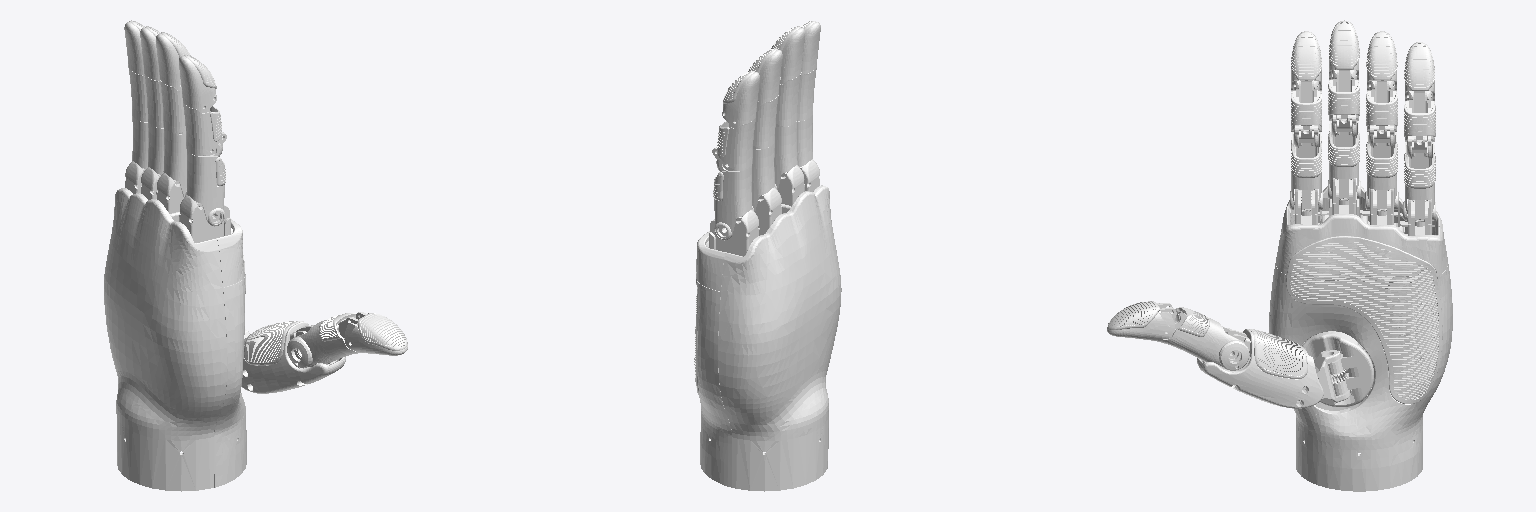
--- Facts derived from the render (not from the file) ---
The picture shows the robot from 3 angles, left to right: view 1: azimuth 30°, elevation 25°; view 2: azimuth 150°, elevation 25°; view 3: azimuth 270°, elevation 25°; orthographic projection.
Model linkerhand_l10_7_left.urdf with 21 links and 20 joints (20 revolute), rooted at hand_base_link, posed every joint at zero.
Visible links, largest first — view 1: hand_base_link, thumb_metacarpals, thumb_proximal, thumb_distal, index_proximal, index_middle, index_distal, index_metacarpals, middle_distal, middle_proximal, middle_middle, pinky_distal (+5 smaller); view 2: hand_base_link, pinky_proximal, pinky_middle, pinky_distal, pinky_metacarpals, ring_distal, middle_distal, ring_proximal, middle_proximal, middle_middle, ring_middle, ring_metacarpals (+3 smaller); view 3: hand_base_link, thumb_metacarpals, thumb_proximal, thumb_metacarpals_base1, thumb_distal, ring_proximal, pinky_proximal, middle_proximal, index_proximal, pinky_middle, middle_middle, index_middle (+9 smaller).
Link boxes in pixels (x1,y1,x2,y2): hand_base_link: [104, 173, 246, 491]; thumb_metacarpals: [242, 321, 345, 393]; thumb_proximal: [287, 313, 357, 368]; thumb_distal: [345, 312, 407, 355]; index_proximal: [186, 150, 225, 226]; index_middle: [183, 103, 226, 156]; index_distal: [179, 55, 216, 112]; index_metacarpals: [179, 195, 230, 242]; middle_distal: [156, 32, 190, 90]; middle_proximal: [163, 128, 186, 197]; middle_middle: [160, 80, 185, 133]; pinky_distal: [124, 20, 144, 76]; hand_base_link: [694, 165, 841, 491]; pinky_proximal: [713, 164, 752, 240]; pinky_middle: [712, 118, 755, 171]; pinky_distal: [722, 71, 759, 128]; pinky_metacarpals: [709, 210, 759, 256]; ring_distal: [748, 48, 782, 106]; middle_distal: [771, 26, 804, 84]; ring_proximal: [752, 143, 774, 211]; middle_proximal: [774, 120, 797, 189]; middle_middle: [776, 72, 801, 126]; ring_middle: [753, 95, 778, 148]; ring_metacarpals: [755, 187, 781, 235]; hand_base_link: [1269, 178, 1452, 491]; thumb_metacarpals: [1197, 329, 1323, 408]; thumb_proximal: [1161, 307, 1249, 370]; thumb_metacarpals_base1: [1302, 331, 1373, 406]; thumb_distal: [1107, 301, 1176, 341]; ring_proximal: [1365, 125, 1398, 211]; pinky_proximal: [1403, 136, 1435, 221]; middle_proximal: [1328, 115, 1360, 200]; index_proximal: [1290, 125, 1322, 211]; pinky_middle: [1404, 91, 1435, 158]; middle_middle: [1328, 70, 1359, 137]; index_middle: [1291, 80, 1321, 147].
Size in the robot's own frame: 0.0906 by 0.1742 by 0.2403 metres.
Meshes: 21 distinct files referenced, 21 mesh visuals loaded (21 binary STL).

URDF robot description (linkerhand_l10_7_left.urdf):
<?xml version="1.0" encoding="utf-8"?>
<!-- This URDF was automatically created by SolidWorks to URDF Exporter! Originally created by Stephen Brawner ([email redacted]) 
     Commit Version: 1.6.0-4-g7f85cfe  Build Version: 1.6.7995.38578
     For more information, please see http://wiki.ros.org/sw_urdf_exporter -->
<robot
  name="linkerhand_l10_7_left.urdf">
  <link
    name="hand_base_link">
    <inertial>
      <origin
        xyz="-0.00378861347427444 0.000820204450212636 0.0805686615687793"
        rpy="0 0 0" />
      <mass
        value="0.103652479414282" />
      <inertia
        ixx="0.000193076183439416"
        ixy="-1.28622350247984E-06"
        ixz="2.06064564158949E-07"
        iyy="0.00012926288517179"
        iyz="2.33887125852557E-06"
        izz="7.7154522927083E-05" />
    </inertial>
    <visual>
      <origin
        xyz="0 0 0"
        rpy="0 0 0" />
      <geometry>
        <mesh
          filename="meshes/hand_base_link.STL" />
      </geometry>
      <material
        name="">
        <color
          rgba="1 1 1 1" />
      </material>
    </visual>
    <collision>
      <origin
        xyz="0 0 0"
        rpy="0 0 0" />
      <geometry>
        <mesh
          filename="meshes/hand_base_link.STL" />
      </geometry>
    </collision>
  </link>
  <link
    name="thumb_metacarpals_base1">
    <inertial>
      <origin
        xyz="0.0284774512174003 0.00319294525979458 0.000288805100279406"
        rpy="0 0 0" />
      <mass
        value="0.00845816139945221" />
      <inertia
        ixx="1.40261486759336E-06"
        ixy="-1.18203915023492E-07"
        ixz="-1.77734618116876E-08"
        iyy="9.82563502315962E-07"
        iyz="6.88489366314261E-08"
        izz="7.36187487063603E-07" />
    </inertial>
    <visual>
      <origin
        xyz="0 0 0"
        rpy="0 0 0" />
      <geometry>
        <mesh
          filename="meshes/thumb_metacarpals_base1.STL" />
      </geometry>
      <material
        name="">
        <color
          rgba="1 1 1 1" />
      </material>
    </visual>
    <collision>
      <origin
        xyz="0 0 0"
        rpy="0 0 0" />
      <geometry>
        <mesh
          filename="meshes/thumb_metacarpals_base1.STL" />
      </geometry>
    </collision>
  </link>
  <joint
    name="thumb_cmc_roll"
    type="revolute">
    <origin
      xyz="-0.013419 -0.012551 0.060602"
      rpy="0 0 0" />
    <parent
      link="hand_base_link" />
    <child
      link="thumb_metacarpals_base1" />
    <axis
      xyz="-0.99996 0 -0.0087265" />
    <limit
      lower="0"
      upper="1.1339"
      effort="100"
      velocity="1" />
  </joint>
  <link
    name="thumb_metacarpals_base2">
    <inertial>
      <origin
        xyz="0.00183846579918134 -0.00587846426611621 -0.0015162158210808"
        rpy="0 0 0" />
      <mass
        value="0.00244725578113259" />
      <inertia
        ixx="1.15251315698557E-07"
        ixy="4.89370850547165E-09"
        ixz="2.66612542059565E-09"
        iyy="9.94309628765418E-08"
        iyz="3.10591576019106E-09"
        izz="6.87375869983625E-08" />
    </inertial>
    <visual>
      <origin
        xyz="0 0 0"
        rpy="0 0 0" />
      <geometry>
        <mesh
          filename="meshes/thumb_metacarpals_base2.STL" />
      </geometry>
      <material
        name="">
        <color
          rgba="1 1 1 1" />
      </material>
    </visual>
    <collision>
      <origin
        xyz="0 0 0"
        rpy="0 0 0" />
      <geometry>
        <mesh
          filename="meshes/thumb_metacarpals_base2.STL" />
      </geometry>
    </collision>
  </link>
  <joint
    name="thumb_cmc_yaw"
    type="revolute">
    <origin
      xyz="0.035797 0.00065879 0.00045944"
      rpy="0 0 0" />
    <parent
      link="thumb_metacarpals_base1" />
    <child
      link="thumb_metacarpals_base2" />
    <axis
      xyz="-0.008517 -0.21782 0.97595" />
    <limit
      lower="0"
      upper="1.9189"
      effort="100"
      velocity="1" />
  </joint>
  <link
    name="thumb_metacarpals">
    <inertial>
      <origin
        xyz="0.00183662026125164 3.48962479811143E-06 0.0269904486748884"
        rpy="0 0 0" />
      <mass
        value="0.01520120856034" />
      <inertia
        ixx="2.9536990439562E-06"
        ixy="-4.54477085913726E-11"
        ixz="1.58082889158651E-07"
        iyy="3.8477051320862E-06"
        iyz="-4.17561402252793E-10"
        izz="1.32008356198982E-06" />
    </inertial>
    <visual>
      <origin
        xyz="0 0 0"
        rpy="0 0 0" />
      <geometry>
        <mesh
          filename="meshes/thumb_metacarpals.STL" />
      </geometry>
      <material
        name="">
        <color
          rgba="1 1 1 1" />
      </material>
    </visual>
    <collision>
      <origin
        xyz="0 0 0"
        rpy="0 0 0" />
      <geometry>
        <mesh
          filename="meshes/thumb_metacarpals.STL" />
      </geometry>
    </collision>
  </link>
  <joint
    name="thumb_cmc_pitch"
    type="revolute">
    <origin
      xyz="0.0046051 -0.014383 -0.0051478"
      rpy="-0.16356 -1.1191 2.0038" />
    <parent
      link="thumb_metacarpals_base2" />
    <child
      link="thumb_metacarpals" />
    <axis
      xyz="0 1 0" />
    <limit
      lower="0"
      upper="0.5149"
      effort="0"
      velocity="0" />
  </joint>
  <link
    name="thumb_proximal">
    <inertial>
      <origin
        xyz="0.0015926125860982 4.26589066317498E-06 0.0151572207811941"
        rpy="0 0 0" />
      <mass
        value="0.00662223966318386" />
      <inertia
        ixx="1.0152616293145E-06"
        ixy="6.75215818960843E-12"
        ixz="4.42240858300533E-08"
        iyy="9.10425093388008E-07"
        iyz="-2.56550662127861E-11"
        izz="4.47461802494835E-07" />
    </inertial>
    <visual>
      <origin
        xyz="0 0 0"
        rpy="0 0 0" />
      <geometry>
        <mesh
          filename="meshes/thumb_proximal.STL" />
      </geometry>
      <material
        name="">
        <color
          rgba="1 1 1 1" />
      </material>
    </visual>
    <collision>
      <origin
        xyz="0 0 0"
        rpy="0 0 0" />
      <geometry>
        <mesh
          filename="meshes/thumb_proximal.STL" />
      </geometry>
    </collision>
  </link>
  <joint
    name="thumb_mcp"
    type="revolute">
    <origin
      xyz="0.0061722 0 0.047968"
      rpy="0 0 0" />
    <parent
      link="thumb_metacarpals" />
    <child
      link="thumb_proximal" />
    <axis
      xyz="0 1 0" />
    <limit
      lower="0"
      upper="0.7152"
      effort="100"
      velocity="1" />
    <mimic
      joint="thumb_cmc_pitch"
      multiplier="1.3898"
      offset="0" />
  </joint>
  <link
    name="thumb_distal">
    <inertial>
      <origin
        xyz="-0.00138804783940386 -1.95109829512208E-06 0.0115761271998154"
        rpy="0 0 0" />
      <mass
        value="0.00512789958515099" />
      <inertia
        ixx="3.30786354228455E-07"
        ixy="3.37981828718406E-10"
        ixz="1.04683577058069E-07"
        iyy="3.23607405408934E-07"
        iyz="1.24601619348998E-10"
        izz="2.48874162996129E-07" />
    </inertial>
    <visual>
      <origin
        xyz="0 0 0"
        rpy="0 0 0" />
      <geometry>
        <mesh
          filename="meshes/thumb_distal.STL" />
      </geometry>
      <material
        name="">
        <color
          rgba="1 1 1 1" />
      </material>
    </visual>
    <collision>
      <origin
        xyz="0 0 0"
        rpy="0 0 0" />
      <geometry>
        <mesh
          filename="meshes/thumb_distal.STL" />
      </geometry>
    </collision>
  </link>
  <joint
    name="thumb_ip"
    type="revolute">
    <origin
      xyz="-0.00017064 0 0.038665"
      rpy="0 0 0" />
    <parent
      link="thumb_proximal" />
    <child
      link="thumb_distal" />
    <axis
      xyz="0 1 0" />
    <limit
      lower="0"
      upper="0.7763"
      effort="100"
      velocity="1" />
    <mimic
      joint="thumb_cmc_pitch"
      multiplier="1.508"
      offset="0" />
  </joint>
  <link
    name="index_metacarpals">
    <inertial>
      <origin
        xyz="-0.00152426817464821 6.05770268113925E-07 0.0106911596123391"
        rpy="0 0 0" />
      <mass
        value="0.00388771277323252" />
      <inertia
        ixx="1.87385239390143E-07"
        ixy="-1.50747799029618E-11"
        ixz="-1.3585152124314E-08"
        iyy="2.75278189614443E-07"
        iyz="-2.13460044424543E-11"
        izz="2.06630683818818E-07" />
    </inertial>
    <visual>
      <origin
        xyz="0 0 0"
        rpy="0 0 0" />
      <geometry>
        <mesh
          filename="meshes/index_metacarpals.STL" />
      </geometry>
      <material
        name="">
        <color
          rgba="1 1 1 1" />
      </material>
    </visual>
    <collision>
      <origin
        xyz="0 0 0"
        rpy="0 0 0" />
      <geometry>
        <mesh
          filename="meshes/index_metacarpals.STL" />
      </geometry>
    </collision>
  </link>
  <joint
    name="index_mcp_roll"
    type="revolute">
    <origin
      xyz="-0.0021643 -0.026654 0.13253"
      rpy="0 0 0" />
    <parent
      link="hand_base_link" />
    <child
      link="index_metacarpals" />
    <axis
      xyz="0.99996 0 0.0087265" />
    <limit
      lower="0"
      upper="0.2181"
      effort="100"
      velocity="1" />
  </joint>
  <link
    name="index_proximal">
    <inertial>
      <origin
        xyz="-0.00138261335013087 -2.0448073701218E-06 0.0182296115874793"
        rpy="0 0 0" />
      <mass
        value="0.00316246721925245" />
      <inertia
        ixx="3.56395782183238E-07"
        ixy="-1.519753847635E-11"
        ixz="4.33017644796655E-08"
        iyy="3.51905921291625E-07"
        iyz="1.08366129189436E-10"
        izz="1.41611972744247E-07" />
    </inertial>
    <visual>
      <origin
        xyz="0 0 0"
        rpy="0 0 0" />
      <geometry>
        <mesh
          filename="meshes/index_proximal.STL" />
      </geometry>
      <material
        name="">
        <color
          rgba="1 1 1 1" />
      </material>
    </visual>
    <collision>
      <origin
        xyz="0 0 0"
        rpy="0 0 0" />
      <geometry>
        <mesh
          filename="meshes/index_proximal.STL" />
      </geometry>
    </collision>
  </link>
  <joint
    name="index_mcp_pitch"
    type="revolute">
    <origin
      xyz="0.0020763 0 0.015294"
      rpy="0 0 0" />
    <parent
      link="index_metacarpals" />
    <child
      link="index_proximal" />
    <axis
      xyz="0 1 0" />
    <limit
      lower="0"
      upper="1.3607"
      effort="100"
      velocity="1" />
  </joint>
  <link
    name="index_middle">
    <inertial>
      <origin
        xyz="-0.00259933527445673 2.18965318593556E-06 0.0110174750966451"
        rpy="0 0 0" />
      <mass
        value="0.00283043922879456" />
      <inertia
        ixx="2.60328600820399E-07"
        ixy="-5.78747075104944E-11"
        ixz="4.11785819343582E-08"
        iyy="2.3307752147835E-07"
        iyz="2.81942890795077E-11"
        izz="1.27252338208461E-07" />
    </inertial>
    <visual>
      <origin
        xyz="0 0 0"
        rpy="0 0 0" />
      <geometry>
        <mesh
          filename="meshes/index_middle.STL" />
      </geometry>
      <material
        name="">
        <color
          rgba="1 1 1 1" />
      </material>
    </visual>
    <collision>
      <origin
        xyz="0 0 0"
        rpy="0 0 0" />
      <geometry>
        <mesh
          filename="meshes/index_middle.STL" />
      </geometry>
    </collision>
  </link>
  <joint
    name="index_pip"
    type="revolute">
    <origin
      xyz="-0.0013807 0 0.035624"
      rpy="0 0 0" />
    <parent
      link="index_proximal" />
    <child
      link="index_middle" />
    <axis
      xyz="0 1 0" />
    <limit
      lower="0"
      upper="1.8317"
      effort="100"
      velocity="1" />
    <mimic
      joint="index_mcp_pitch"
      multiplier="1.3462"
      offset="0" />
  </joint>
  <link
    name="index_distal">
    <inertial>
      <origin
        xyz="-0.000710517111010627 -4.75726794854636E-06 0.012145336450558"
        rpy="0 0 0" />
      <mass
        value="0.00314452064297397" />
      <inertia
        ixx="1.63317340328391E-07"
        ixy="-2.09419656935959E-11"
        ixz="4.33496816458187E-08"
        iyy="1.48361285562251E-07"
        iyz="1.96803996917722E-10"
        izz="9.85553531650042E-08" />
    </inertial>
    <visual>
      <origin
        xyz="0 0 0"
        rpy="0 0 0" />
      <geometry>
        <mesh
          filename="meshes/index_distal.STL" />
      </geometry>
      <material
        name="">
        <color
          rgba="1 1 1 1" />
      </material>
    </visual>
    <collision>
      <origin
        xyz="0 0 0"
        rpy="0 0 0" />
      <geometry>
        <mesh
          filename="meshes/index_distal.STL" />
      </geometry>
    </collision>
  </link>
  <joint
    name="index_dip"
    type="revolute">
    <origin
      xyz="-0.0054686 0 0.025665"
      rpy="0 0 0" />
    <parent
      link="index_middle" />
    <child
      link="index_distal" />
    <axis
      xyz="0 1 0" />
    <limit
      lower="0"
      upper="0.628"
      effort="100"
      velocity="1" />
    <mimic
      joint="index_mcp_pitch"
      multiplier="0.4616"
      offset="0" />
  </joint>
  <link
    name="middle_proximal">
    <inertial>
      <origin
        xyz="-0.00139098027014184 -2.04476498844031E-06 0.0182289750275599"
        rpy="0 0 0" />
      <mass
        value="0.00316246719662224" />
      <inertia
        ixx="3.56355985740973E-07"
        ixy="-1.52464655137029E-11"
        ixz="4.34003274159042E-08"
        iyy="3.51905920397221E-07"
        iyz="1.08359634878477E-10"
        izz="1.41651767407151E-07" />
    </inertial>
    <visual>
      <origin
        xyz="0 0 0"
        rpy="0 0 0" />
      <geometry>
        <mesh
          filename="meshes/middle_proximal.STL" />
      </geometry>
      <material
        name="">
        <color
          rgba="1 1 1 1" />
      </material>
    </visual>
    <collision>
      <origin
        xyz="0 0 0"
        rpy="0 0 0" />
      <geometry>
        <mesh
          filename="meshes/middle_proximal.STL" />
      </geometry>
    </collision>
  </link>
  <joint
    name="middle_mcp_pitch"
    type="revolute">
    <origin
      xyz="-0.0021316 -0.0076542 0.15281"
      rpy="0 0 0" />
    <parent
      link="hand_base_link" />
    <child
      link="middle_proximal" />
    <axis
      xyz="0 1 0" />
    <limit
      lower="0"
      upper="1.3607"
      effort="100"
      velocity="1" />
  </joint>
  <link
    name="middle_middle">
    <inertial>
      <origin
        xyz="-0.0026170048250792 2.18964489276385E-06 0.0110132913946175"
        rpy="0 0 0" />
      <mass
        value="0.00283043921858529" />
      <inertia
        ixx="2.6019615015243E-07"
        ixy="-5.79194626881696E-11"
        ixz="4.13918339836743E-08"
        iyy="2.33077520740401E-07"
        iyz="2.81014096462077E-11"
        izz="1.27384787247362E-07" />
    </inertial>
    <visual>
      <origin
        xyz="0 0 0"
        rpy="0 0 0" />
      <geometry>
        <mesh
          filename="meshes/middle_middle.STL" />
      </geometry>
      <material
        name="">
        <color
          rgba="1 1 1 1" />
      </material>
    </visual>
    <collision>
      <origin
        xyz="0 0 0"
        rpy="0 0 0" />
      <geometry>
        <mesh
          filename="meshes/middle_middle.STL" />
      </geometry>
    </collision>
  </link>
  <joint
    name="middle_pip"
    type="revolute">
    <origin
      xyz="-0.001397 0 0.035623"
      rpy="0 0 0" />
    <parent
      link="middle_proximal" />
    <child
      link="middle_middle" />
    <axis
      xyz="0 1 0" />
    <limit
      lower="0"
      upper="1.8317"
      effort="100"
      velocity="1" />
    <mimic
      joint="middle_mcp_pitch"
      multiplier="1.3462"
      offset="0" />
  </joint>
  <link
    name="middle_distal">
    <inertial>
      <origin
        xyz="-0.000728403029144615 -4.7556974856755E-06 0.0121442774004862"
        rpy="0 0 0" />
      <mass
        value="0.00314452092965163" />
      <inertia
        ixx="1.63189533228873E-07"
        ixy="-2.12447856725291E-11"
        ixz="4.34448768867267E-08"
        iyy="1.48361296215225E-07"
        iyz="1.96771697224987E-10"
        izz="9.86831899309453E-08" />
    </inertial>
    <visual>
      <origin
        xyz="0 0 0"
        rpy="0 0 0" />
      <geometry>
        <mesh
          filename="meshes/middle_distal.STL" />
      </geometry>
      <material
        name="">
        <color
          rgba="1 1 1 1" />
      </material>
    </visual>
    <collision>
      <origin
        xyz="0 0 0"
        rpy="0 0 0" />
      <geometry>
        <mesh
          filename="meshes/middle_distal.STL" />
      </geometry>
    </collision>
  </link>
  <joint
    name="middle_dip"
    type="revolute">
    <origin
      xyz="-0.0055098 0 0.025656"
      rpy="0 0 0" />
    <parent
      link="middle_middle" />
    <child
      link="middle_distal" />
    <axis
      xyz="0 1 0" />
    <limit
      lower="0"
      upper="1.628"
      effort="100"
      velocity="1" />
    <mimic
      joint="middle_mcp_pitch"
      multiplier="0.4616"
      offset="0" />
  </joint>
  <link
    name="ring_metacarpals">
    <inertial>
      <origin
        xyz="-0.00152426817464828 6.05770268197192E-07 0.010691159612339"
        rpy="0 0 0" />
      <mass
        value="0.00388771277323251" />
      <inertia
        ixx="1.87385239390142E-07"
        ixy="-1.50747799012373E-11"
        ixz="-1.35851521243144E-08"
        iyy="2.75278189614442E-07"
        iyz="-2.13460044414369E-11"
        izz="2.06630683818817E-07" />
    </inertial>
    <visual>
      <origin
        xyz="0 0 0"
        rpy="0 0 0" />
      <geometry>
        <mesh
          filename="meshes/ring_metacarpals.STL" />
      </geometry>
      <material
        name="">
        <color
          rgba="1 1 1 1" />
      </material>
    </visual>
    <collision>
      <origin
        xyz="0 0 0"
        rpy="0 0 0" />
      <geometry>
        <mesh
          filename="meshes/ring_metacarpals.STL" />
      </geometry>
    </collision>
  </link>
  <joint
    name="ring_mcp_roll"
    type="revolute">
    <origin
      xyz="-0.0021643 0.011346 0.13253"
      rpy="0 0 0" />
    <parent
      link="hand_base_link" />
    <child
      link="ring_metacarpals" />
    <axis
      xyz="-0.99996 0 0.0087265" />
    <limit
      lower="0"
      upper="0.2181"
      effort="100"
      velocity="1" />
  </joint>
  <link
    name="ring_proximal">
    <inertial>
      <origin
        xyz="-0.00138261330266684 -2.0447785264166E-06 0.0182296118982312"
        rpy="0 0 0" />
      <mass
        value="0.0031624671652163" />
      <inertia
        ixx="3.56395781426818E-07"
        ixy="-1.51970550291323E-11"
        ixz="4.33017653956416E-08"
        iyy="3.51905919284355E-07"
        iyz="1.08366441004821E-10"
        izz="1.4161197116697E-07" />
    </inertial>
    <visual>
      <origin
        xyz="0 0 0"
        rpy="0 0 0" />
      <geometry>
        <mesh
          filename="meshes/ring_proximal.STL" />
      </geometry>
      <material
        name="">
        <color
          rgba="1 1 1 1" />
      </material>
    </visual>
    <collision>
      <origin
        xyz="0 0 0"
        rpy="0 0 0" />
      <geometry>
        <mesh
          filename="meshes/ring_proximal.STL" />
      </geometry>
    </collision>
  </link>
  <joint
    name="ring_mcp_pitch"
    type="revolute">
    <origin
      xyz="0.0020763 0 0.015294"
      rpy="0 0 0" />
    <parent
      link="ring_metacarpals" />
    <child
      link="ring_proximal" />
    <axis
      xyz="0 1 0" />
    <limit
      lower="0"
      upper="1.3607"
      effort="100"
      velocity="1" />
  </joint>
  <link
    name="ring_middle">
    <inertial>
      <origin
        xyz="-0.00259933547466245 2.18954477221311E-06 0.0110174751134697"
        rpy="0 0 0" />
      <mass
        value="0.00283043915953111" />
      <inertia
        ixx="2.60328598871493E-07"
        ixy="-5.78718096660343E-11"
        ixz="4.11785818944011E-08"
        iyy="2.33077515495018E-07"
        iyz="2.81941916146631E-11"
        izz="1.27252331273933E-07" />
    </inertial>
    <visual>
      <origin
        xyz="0 0 0"
        rpy="0 0 0" />
      <geometry>
        <mesh
          filename="meshes/ring_middle.STL" />
      </geometry>
      <material
        name="">
        <color
          rgba="1 1 1 1" />
      </material>
    </visual>
    <collision>
      <origin
        xyz="0 0 0"
        rpy="0 0 0" />
      <geometry>
        <mesh
          filename="meshes/ring_middle.STL" />
      </geometry>
    </collision>
  </link>
  <joint
    name="ring_pip"
    type="revolute">
    <origin
      xyz="-0.0013807 0 0.035624"
      rpy="0 0 0" />
    <parent
      link="ring_proximal" />
    <child
      link="ring_middle" />
    <axis
      xyz="0 1 0" />
    <limit
      lower="0"
      upper="1.8317"
      effort="100"
      velocity="1" />
    <mimic
      joint="ring_mcp_pitch"
      multiplier="1.3462"
      offset="0" />
  </joint>
  <link
    name="ring_distal">
    <inertial>
      <origin
        xyz="-0.000710517105065085 -4.75636578367578E-06 0.0121453401469508"
        rpy="0 0 0" />
      <mass
        value="0.00314452208497789" />
      <inertia
        ixx="1.63317386570295E-07"
        ixy="-2.09324585080789E-11"
        ixz="4.33497128582753E-08"
        iyy="1.48361350800559E-07"
        iyz="1.9679121866702E-10"
        izz="9.85553885284675E-08" />
    </inertial>
    <visual>
      <origin
        xyz="0 0 0"
        rpy="0 0 0" />
      <geometry>
        <mesh
          filename="meshes/ring_distal.STL" />
      </geometry>
      <material
        name="">
        <color
          rgba="1 1 1 1" />
      </material>
    </visual>
    <collision>
      <origin
        xyz="0 0 0"
        rpy="0 0 0" />
      <geometry>
        <mesh
          filename="meshes/ring_distal.STL" />
      </geometry>
    </collision>
  </link>
  <joint
    name="ring_dip"
    type="revolute">
    <origin
      xyz="-0.0054686 0 0.025665"
      rpy="0 0 0" />
    <parent
      link="ring_middle" />
    <child
      link="ring_distal" />
    <axis
      xyz="0 1 0" />
    <limit
      lower="0"
      upper="0.628"
      effort="100"
      velocity="1" />
    <mimic
      joint="ring_mcp_pitch"
      multiplier="0.4616"
      offset="0" />
  </joint>
  <link
    name="pinky_metacarpals">
    <inertial>
      <origin
        xyz="-0.0015242681746482 6.05770268197192E-07 0.010691159612339"
        rpy="0 0 0" />
      <mass
        value="0.00388771277323252" />
      <inertia
        ixx="1.87385239390143E-07"
        ixy="-1.50747799026559E-11"
        ixz="-1.35851521243143E-08"
        iyy="2.75278189614442E-07"
        iyz="-2.13460044423049E-11"
        izz="2.06630683818817E-07" />
    </inertial>
    <visual>
      <origin
        xyz="0 0 0"
        rpy="0 0 0" />
      <geometry>
        <mesh
          filename="meshes/pinky_metacarpals.STL" />
      </geometry>
      <material
        name="">
        <color
          rgba="1 1 1 1" />
      </material>
    </visual>
    <collision>
      <origin
        xyz="0 0 0"
        rpy="0 0 0" />
      <geometry>
        <mesh
          filename="meshes/pinky_metacarpals.STL" />
      </geometry>
    </collision>
  </link>
  <joint
    name="pinky_mcp_roll"
    type="revolute">
    <origin
      xyz="-0.00012074 0.030346 0.12755"
      rpy="0 0 0" />
    <parent
      link="hand_base_link" />
    <child
      link="pinky_metacarpals" />
    <axis
      xyz="-0.99996 0 0.0087265" />
    <limit
      lower="0"
      upper="0.3489"
      effort="100"
      velocity="1" />
  </joint>
  <link
    name="pinky_proximal">
    <inertial>
      <origin
        xyz="-0.0013826133500916 -2.04480739013357E-06 0.0182296115873023"
        rpy="0 0 0" />
      <mass
        value="0.00316246721927742" />
      <inertia
        ixx="3.56395782184299E-07"
        ixy="-1.51975383069221E-11"
        ixz="4.33017644806427E-08"
        iyy="3.51905921292737E-07"
        iyz="1.08366128612708E-10"
        izz="1.41611972744827E-07" />
    </inertial>
    <visual>
      <origin
        xyz="0 0 0"
        rpy="0 0 0" />
      <geometry>
        <mesh
          filename="meshes/pinky_proximal.STL" />
      </geometry>
      <material
        name="">
        <color
          rgba="1 1 1 1" />
      </material>
    </visual>
    <collision>
      <origin
        xyz="0 0 0"
        rpy="0 0 0" />
      <geometry>
        <mesh
          filename="meshes/pinky_proximal.STL" />
      </geometry>
    </collision>
  </link>
  <joint
    name="pinky_mcp_pitch"
    type="revolute">
    <origin
      xyz="0.0020763 0 0.015294"
      rpy="0 0 0" />
    <parent
      link="pinky_metacarpals" />
    <child
      link="pinky_proximal" />
    <axis
      xyz="0 1 0" />
    <limit
      lower="0"
      upper="1.3607"
      effort="100"
      velocity="1" />
  </joint>
  <link
    name="pinky_middle">
    <inertial>
      <origin
        xyz="-0.0025993354746625 2.18954477224087E-06 0.0110174751134698"
        rpy="0 0 0" />
      <mass
        value="0.00283043915953116" />
      <inertia
        ixx="2.60328598871551E-07"
        ixy="-5.78718096771597E-11"
        ixz="4.11785818944279E-08"
        iyy="2.33077515495214E-07"
        iyz="2.81941916132638E-11"
        izz="1.27252331274066E-07" />
    </inertial>
    <visual>
      <origin
        xyz="0 0 0"
        rpy="0 0 0" />
      <geometry>
        <mesh
          filename="meshes/pinky_middle.STL" />
      </geometry>
      <material
        name="">
        <color
          rgba="1 1 1 1" />
      </material>
    </visual>
    <collision>
      <origin
        xyz="0 0 0"
        rpy="0 0 0" />
      <geometry>
        <mesh
          filename="meshes/pinky_middle.STL" />
      </geometry>
    </collision>
  </link>
  <joint
    name="pinky_pip"
    type="revolute">
    <origin
      xyz="-0.0013807 0 0.035624"
      rpy="0 0 0" />
    <parent
      link="pinky_proximal" />
    <child
      link="pinky_middle" />
    <axis
      xyz="0 1 0" />
    <limit
      lower="0"
      upper="1.8317"
      effort="100"
      velocity="1" />
    <mimic
      joint="pinky_mcp_pitch"
      multiplier="1.3462"
      offset="0" />
  </joint>
  <link
    name="pinky_distal">
    <inertial>
      <origin
        xyz="-0.000710517460743719 -4.75730252216811E-06 0.0121453361986339"
        rpy="0 0 0" />
      <mass
        value="0.00314452044951957" />
      <inertia
        ixx="1.63317337383031E-07"
        ixy="-2.09430019728007E-11"
        ixz="4.33496839959002E-08"
        iyy="1.48361292034124E-07"
        iyz="1.96809590206387E-10"
        izz="9.85553441949477E-08" />
    </inertial>
    <visual>
      <origin
        xyz="0 0 0"
        rpy="0 0 0" />
      <geometry>
        <mesh
          filename="meshes/pinky_distal.STL" />
      </geometry>
      <material
        name="">
        <color
          rgba="1 1 1 1" />
      </material>
    </visual>
    <collision>
      <origin
        xyz="0 0 0"
        rpy="0 0 0" />
      <geometry>
        <mesh
          filename="meshes/pinky_distal.STL" />
      </geometry>
    </collision>
  </link>
  <joint
    name="pinky_dip"
    type="revolute">
    <origin
      xyz="-0.0054686 0 0.025665"
      rpy="0 0 0" />
    <parent
      link="pinky_middle" />
    <child
      link="pinky_distal" />
    <axis
      xyz="0 1 0" />
    <limit
      lower="0"
      upper="0.628"
      effort="100"
      velocity="1" />
    <mimic
      joint="pinky_mcp_pitch"
      multiplier="0.4616"
      offset="0" />
  </joint>
</robot>
